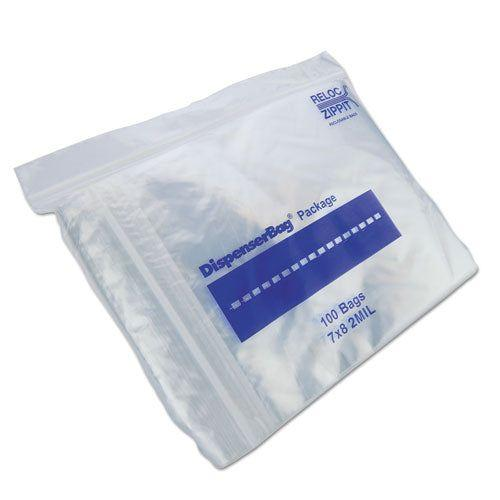LDPE: (14, 50, 480, 471)
